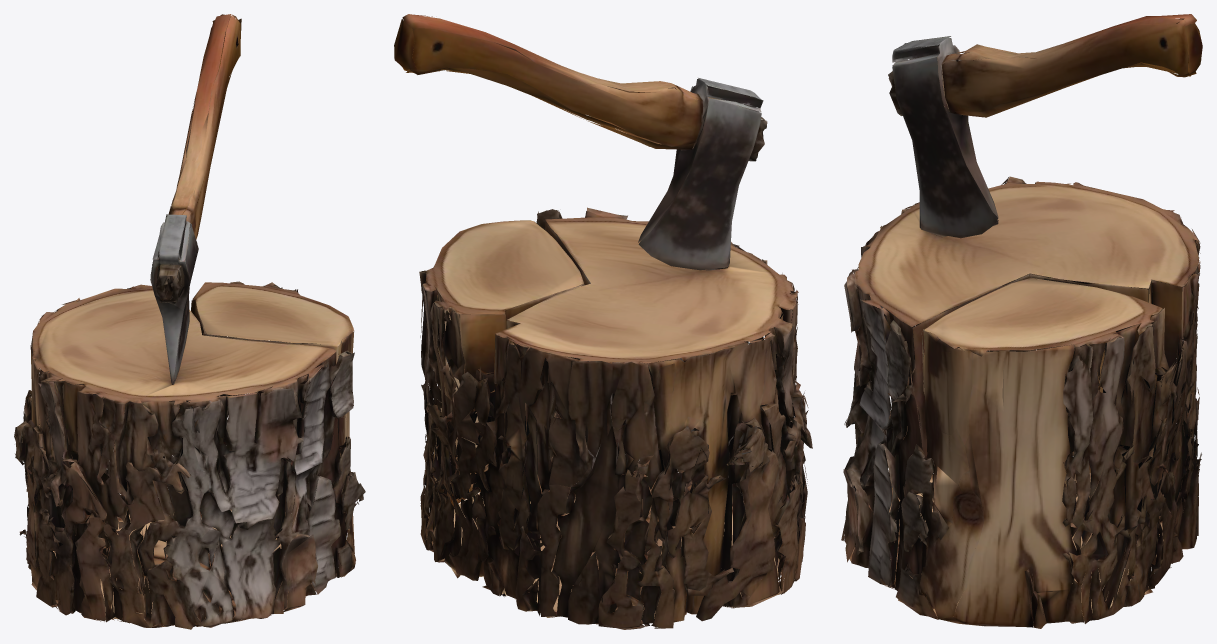
File: tronco_picar.glb
3 views of the same model, side by side, from view 1: azimuth 30°, elevation 25°; view 2: azimuth 150°, elevation 25°; view 3: azimuth 270°, elevation 25° (orthographic). The views are drawn at different scales.
Visible parts, largest first — view 1: geometry_0; view 2: geometry_0; view 3: geometry_0.
Part boxes in pixels (left/top/right/bottom): geometry_0: left=14, top=14, right=365, bottom=629; geometry_0: left=394, top=14, right=812, bottom=629; geometry_0: left=841, top=14, right=1202, bottom=628.
Bounding box in the file's own units: 0.6001 × 0.9051 × 0.5011.
Materials: 1 (1 with a texture image).
